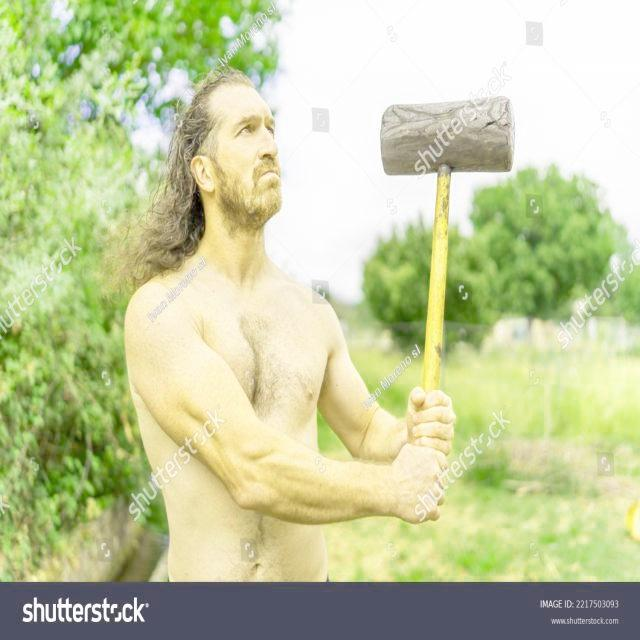hammer: (358, 79, 519, 394)
